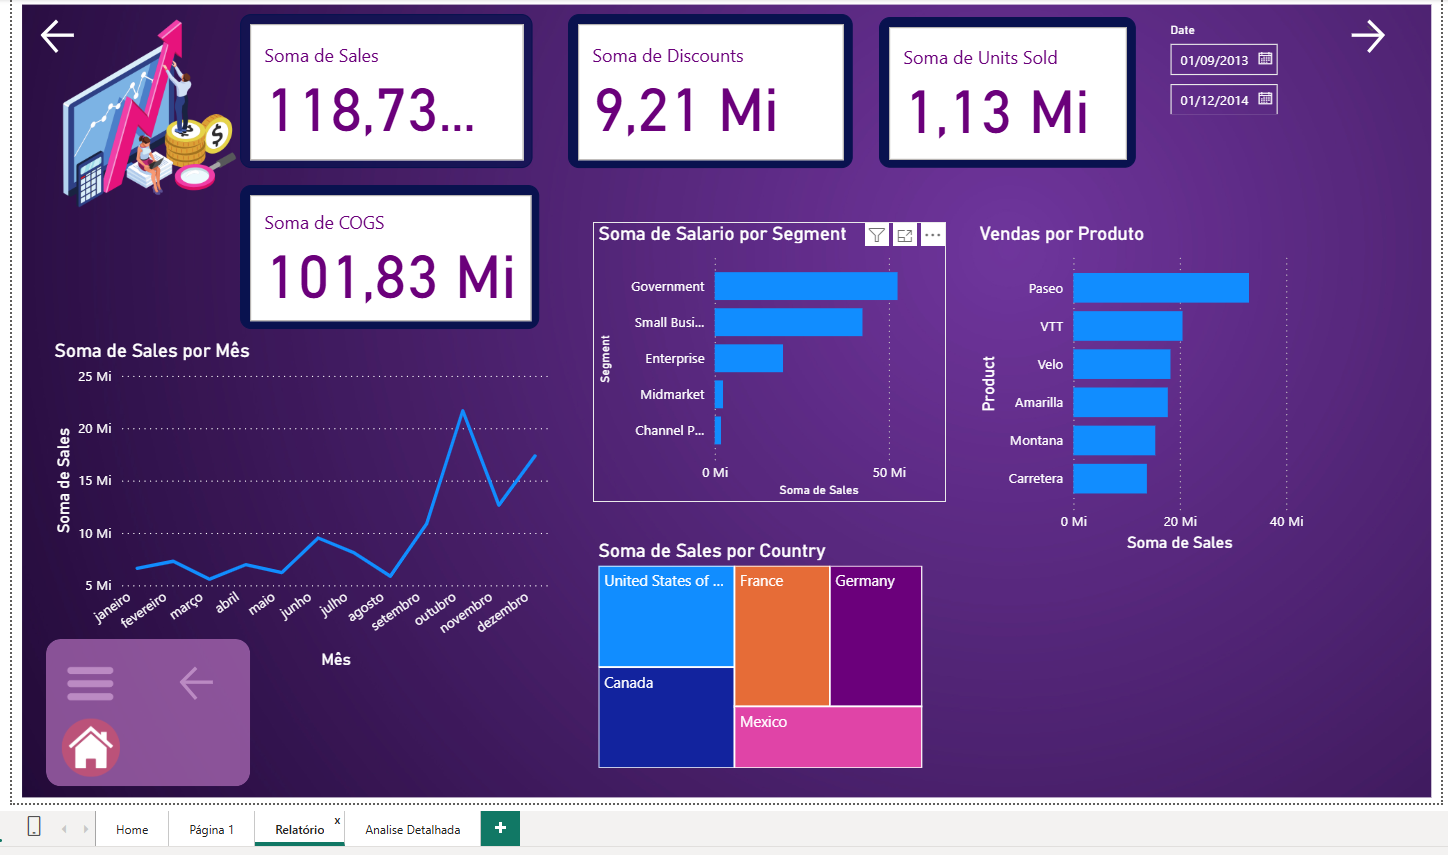

The dashboard page shown, as its layout file describes it:
{"tool":"powerbi","page":{"name":"Relatório","canvas":[1280,720],"ordinal":2},"visuals":[{"type":"image","box":[0,0,1280,719.7],"z":0},{"type":"actionButton","box":[146.3,592.9,57.6,39.9],"z":500,"group":"g1"},{"type":"image","box":[33,13.4,180.9,178.5],"z":2000},{"type":"lineChart","fields":{"Category":["financials.Date.Variation.Hierarquia de datas.Mês"],"Y":["Sum(financials. Sales)"]},"box":[33.1,304.4,453.3,299.6],"z":3000},{"type":"cardVisual","fields":{"Data":["Sum(financials. Sales)"]},"box":[204.3,13.6,261.6,138.1],"z":4000},{"type":"cardVisual","fields":{"Data":["Sum(financials.COGS)"]},"box":[204.3,166.3,268.4,129.4],"z":5000},{"type":"cardVisual","fields":{"Data":["Sum(financials.Discounts)"]},"box":[498,13.6,254.8,138.1],"z":6000},{"type":"cardVisual","fields":{"Data":["Sum(financials.Units Sold)"]},"box":[776.2,16.5,229.5,135.2],"z":7000},{"type":"barChart","title":"Soma de Salario por Segment","fields":{"Category":["financials.Segment"],"Y":["Sum(financials. Sales)"]},"box":[520.4,199.4,316.1,250.9],"z":9000},{"type":"barChart","title":"Vendas por Produto","fields":{"Category":["financials.Product"],"Y":["Sum(financials. Sales)"]},"box":[861.8,199.4,299.6,299.6],"z":10000},{"type":"treemap","fields":{"Values":["Sum(financials. Sales)"],"Group":["financials.Country"]},"box":[520.4,483.4,299.6,210.1],"z":11000},{"type":"slicer","fields":{"Values":["financials.Date"]},"box":[1024.2,16.5,211.1,86.6],"z":12000},{"type":"shape","box":[31,573,182.9,131.9],"z":13000,"group":"g1"},{"type":"image","box":[33.2,586.3,74.3,53.2],"z":14000},{"type":"image","box":[28.8,639.5,84.2,62.1],"z":15000,"group":"g1"},{"type":"group","id":"g1","title":"menu","box":[28.8,573,185.1,131.9],"z":15001},{"type":"actionButton","box":[1193.6,13.3,41,39.9],"z":15002},{"type":"actionButton","box":[21.1,13.3,49.9,39.9],"z":15003}]}

Visuals, with their boxes on the page's 1280x720 design canvas (x1, y1, x2, y2). These are canvas units, not pixel positions in the 1448x855 screenshot, which may show the page scaled, cropped or inside an application window:
image: 0, 0, 1280, 720
actionButton: 146, 593, 204, 633
image: 33, 13, 214, 192
lineChart - financials.Date.Variation.Hierarquia de datas.Mês x Sum(financials. Sales): 33, 304, 486, 604
cardVisual - Sum(financials. Sales): 204, 14, 466, 152
cardVisual - Sum(financials.COGS): 204, 166, 473, 296
cardVisual - Sum(financials.Discounts): 498, 14, 753, 152
cardVisual - Sum(financials.Units Sold): 776, 16, 1006, 152
"Soma de Salario por Segment" barChart: 520, 199, 836, 450
"Vendas por Produto" barChart: 862, 199, 1161, 499
treemap - Sum(financials. Sales) x financials.Country: 520, 483, 820, 694
slicer - financials.Date: 1024, 16, 1235, 103
shape: 31, 573, 214, 705
image: 33, 586, 108, 640
image: 29, 640, 113, 702
"menu" group: 29, 573, 214, 705
actionButton: 1194, 13, 1235, 53
actionButton: 21, 13, 71, 53
